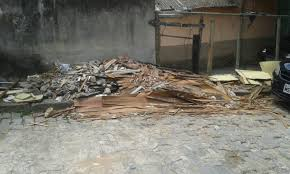rubble: (39, 56, 192, 103)
